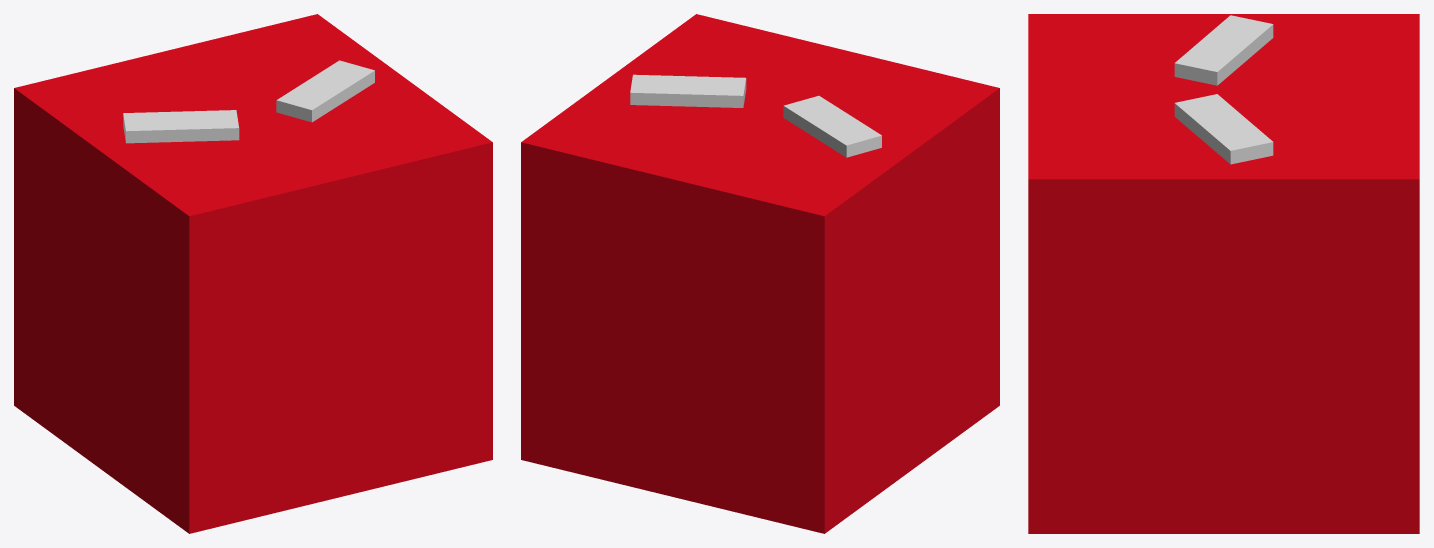
Rendered from NormalEnemy.fbx.
3 views of the same model, side by side, from view 1: azimuth 30°, elevation 25°; view 2: azimuth 150°, elevation 25°; view 3: azimuth 270°, elevation 25° (orthographic). The views are drawn at different scales.
Parts seen in each view (by area): view 1: MeleeEnemy, 立方体; view 2: MeleeEnemy, 立方体; view 3: MeleeEnemy, 立方体.
Boxes of the visible parts, left/top/right/bottom form: MeleeEnemy: left=14, top=14, right=492, bottom=533; 立方体: left=123, top=60, right=374, bottom=143; MeleeEnemy: left=521, top=14, right=999, bottom=533; 立方体: left=630, top=74, right=881, bottom=157; MeleeEnemy: left=1028, top=14, right=1419, bottom=533; 立方体: left=1174, top=15, right=1273, bottom=164.
Size of the model in its own units: 200 by 200 by 208.
